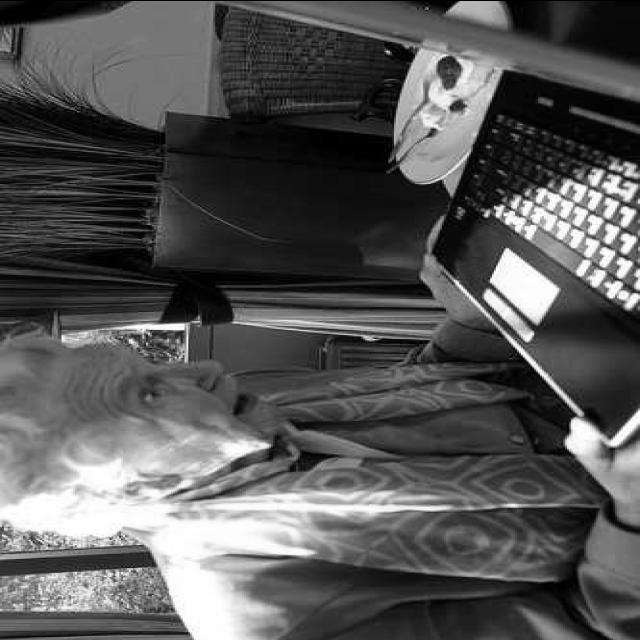laptop: (229, 7, 640, 448)
